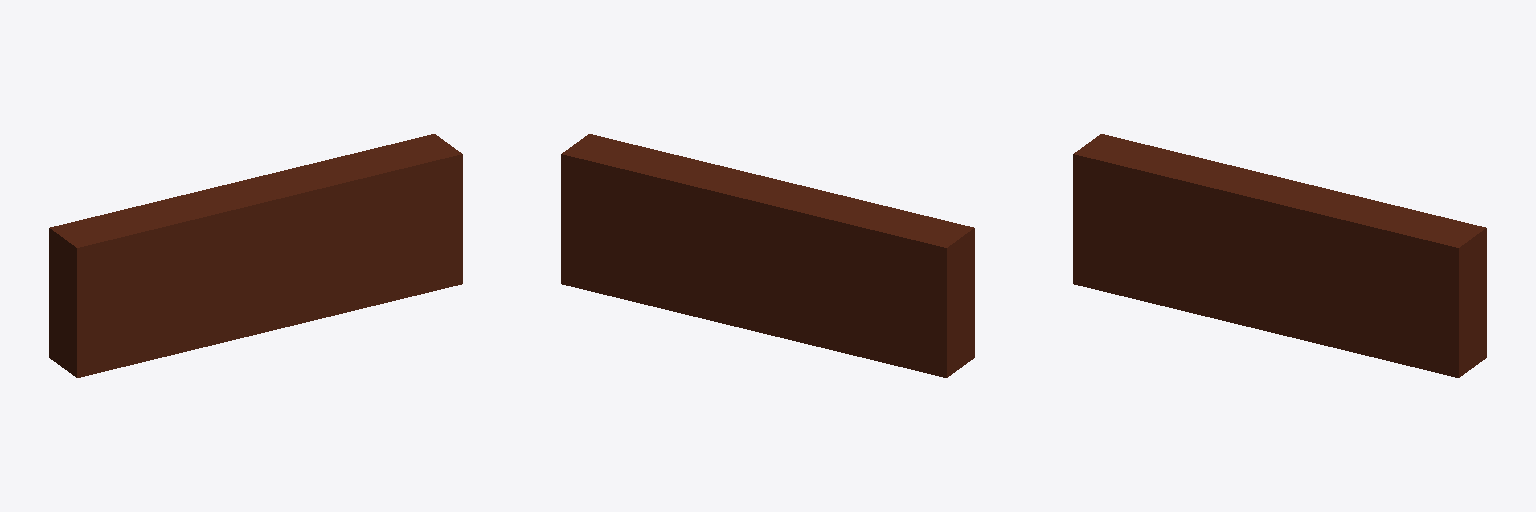
File: nadproze_small_window.obj
3 views of the same model, side by side, from view 1: azimuth 30°, elevation 25°; view 2: azimuth 150°, elevation 25°; view 3: azimuth 330°, elevation 25° (orthographic).
Visible parts, largest first — view 1: Extrusion; view 2: Extrusion; view 3: Extrusion.
Boxes of the visible parts, x1,y1,x2,y2 form: Extrusion: [49, 134, 462, 377]; Extrusion: [561, 134, 974, 377]; Extrusion: [1073, 134, 1486, 377].
Size of the model in its own units: 0.7992 by 0.2579 by 0.1.